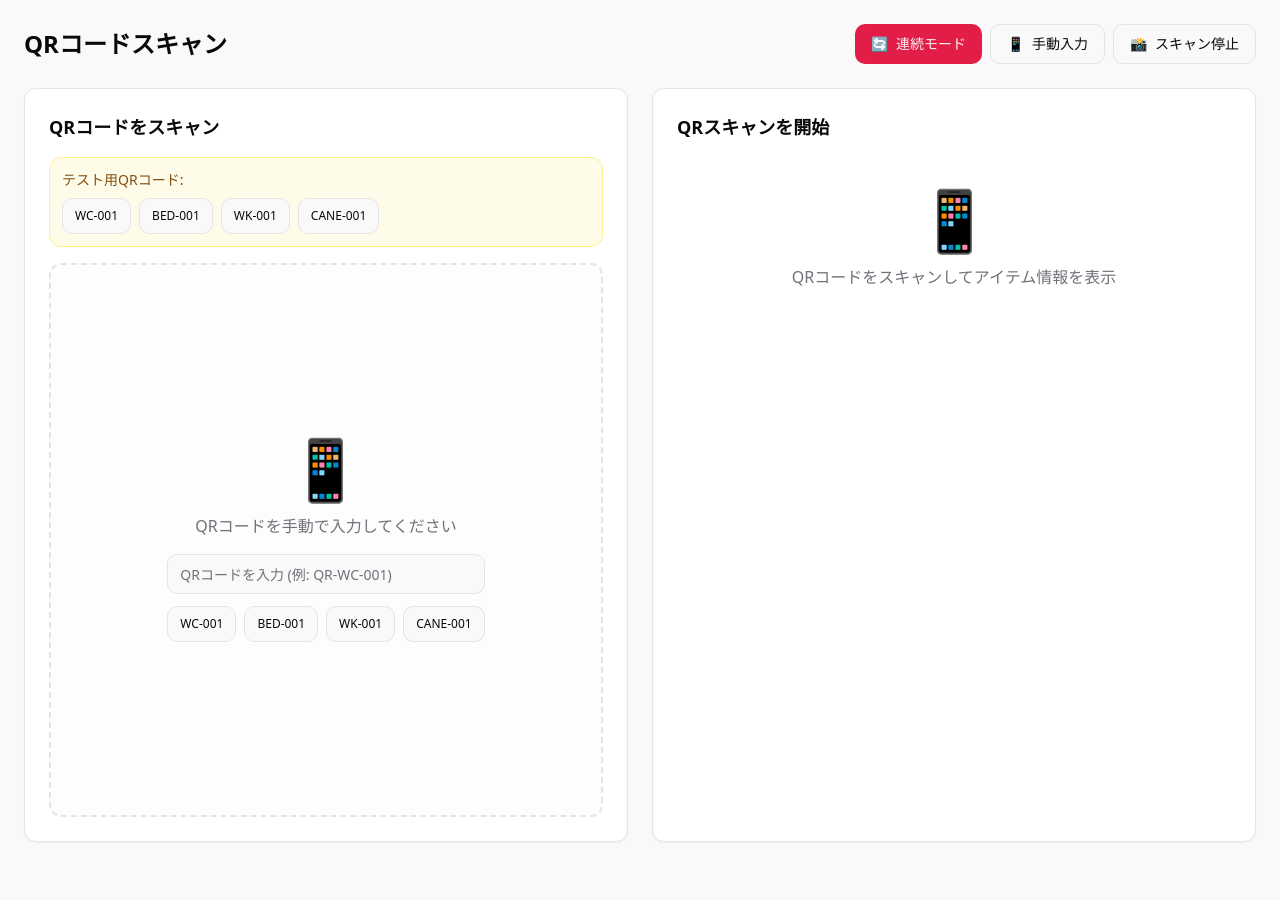
Test case: スキャン時のスクロール位置 › スキャンしても ReferenceError を投げない
In the field with placeholder "QRコードを入力 (例: QR-WC-001)": [326, 574] box [167,554,485,594], type "WC-003"
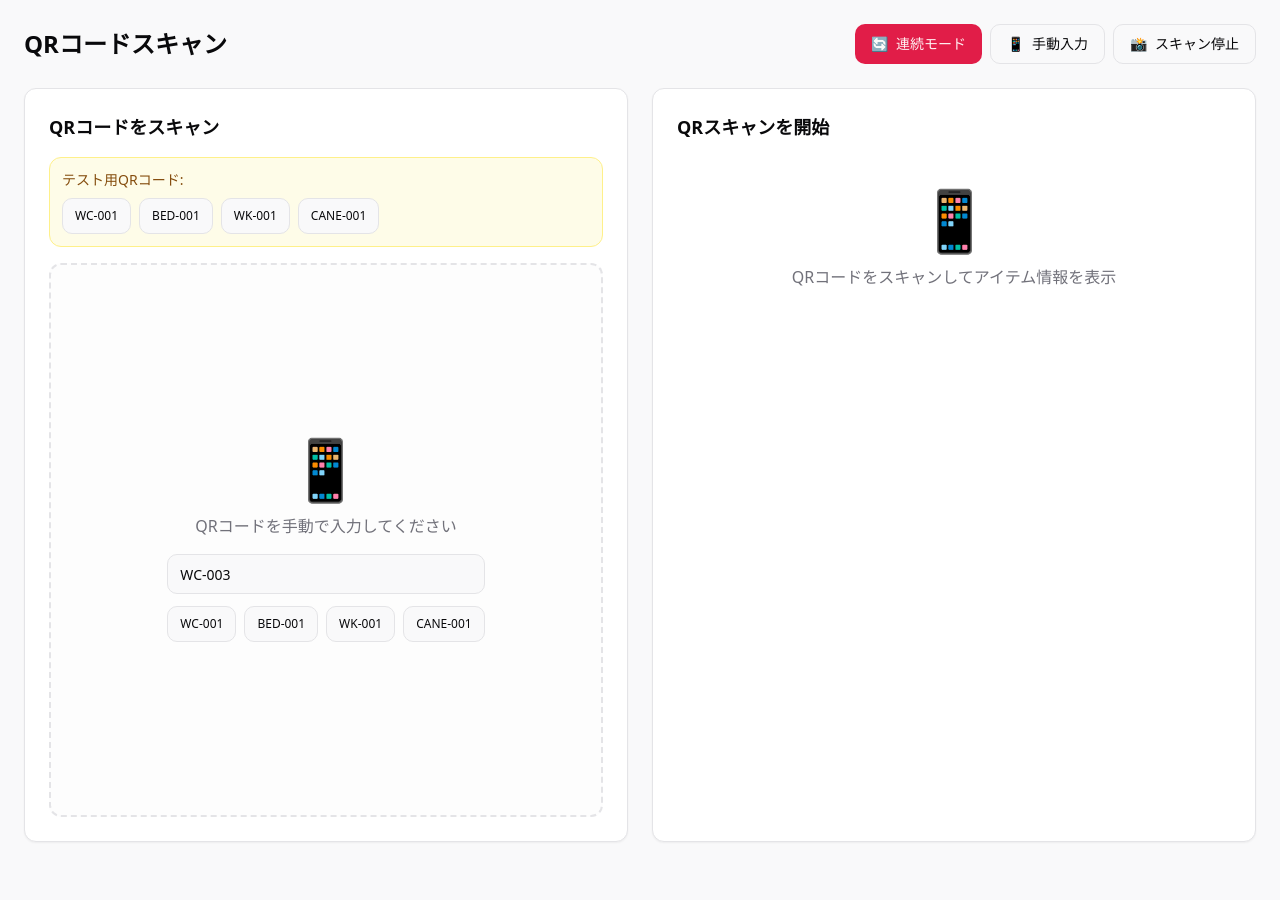
Press Enter in the field with placeholder "QRコードを入力 (例: QR-WC-001)", box [167,554,485,594]
Wait 50 ms
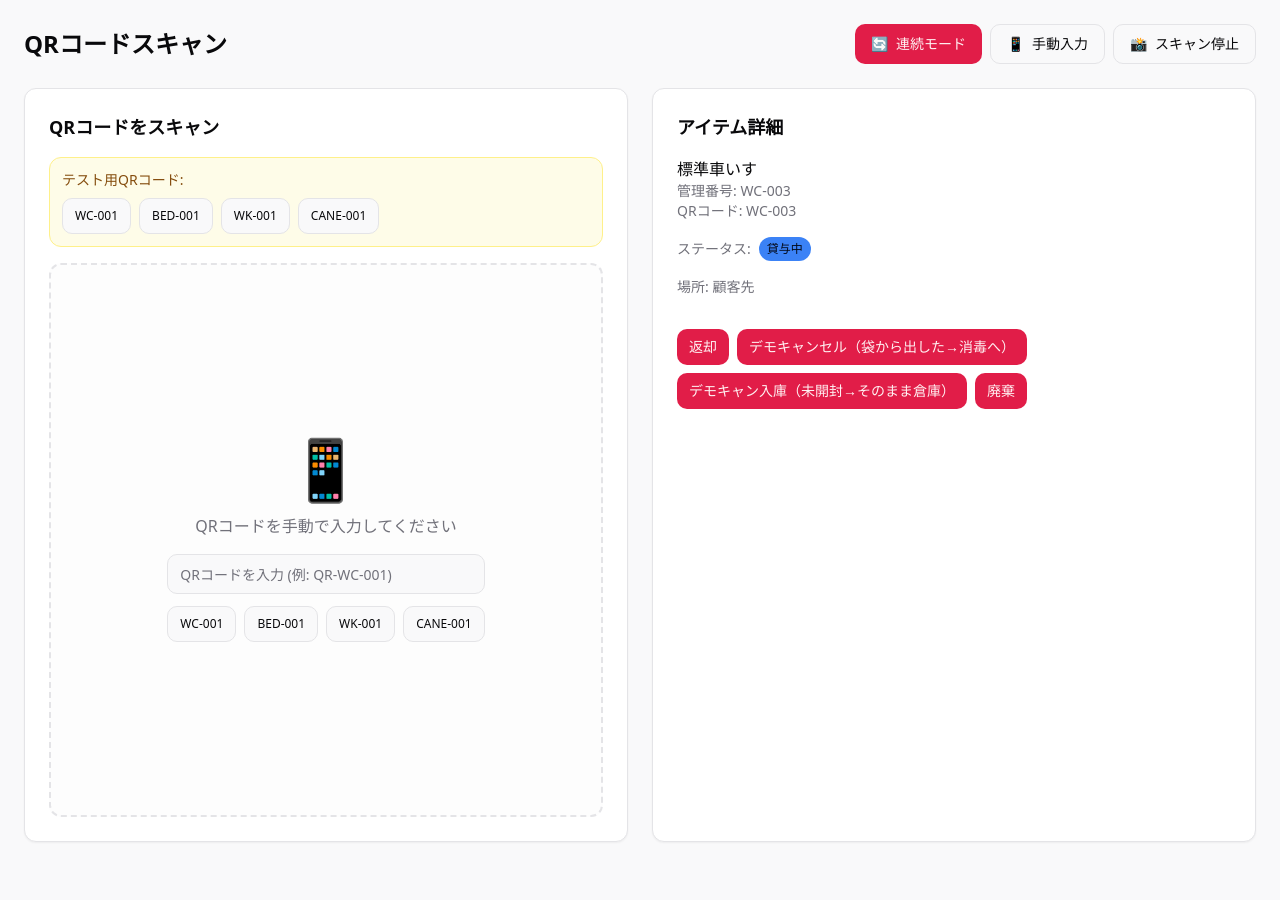
Expected: the button "返却" is shown, [677,329,729,365]
